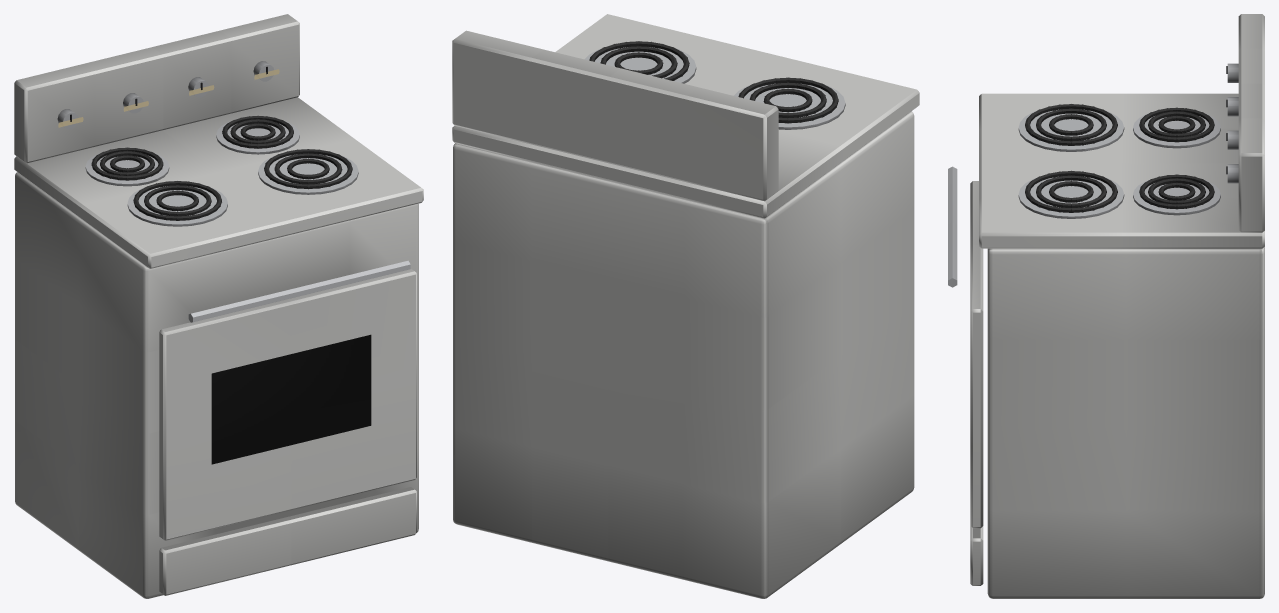
File: stove.glb
The picture shows the model from 3 angles, left to right: view 1: azimuth 30°, elevation 25°; view 2: azimuth 150°, elevation 25°; view 3: azimuth 270°, elevation 25°; orthographic projection. The views are drawn at different scales.
Visible parts, largest first — view 1: body, panels, decals; view 2: body; view 3: body.
Boxes of the visible parts, left/top/right/bottom form: body: left=14, top=14, right=423, bottom=598; panels: left=211, top=334, right=371, bottom=464; decals: left=58, top=69, right=279, bottom=127; body: left=452, top=14, right=919, bottom=598; body: left=948, top=14, right=1264, bottom=598.
Size of what is drawn, in the model's own units: 0.76 by 1.12 by 0.7204.
Materials: 6 (2 with a texture image).
